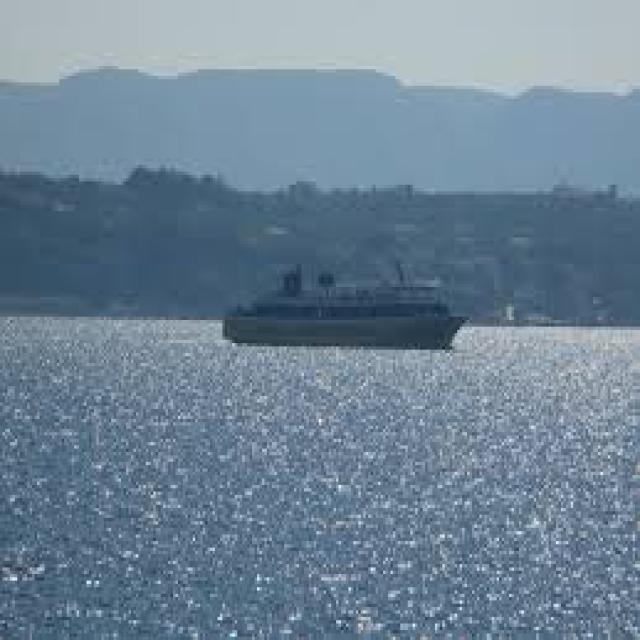passenger ship: (210, 253, 477, 361)
